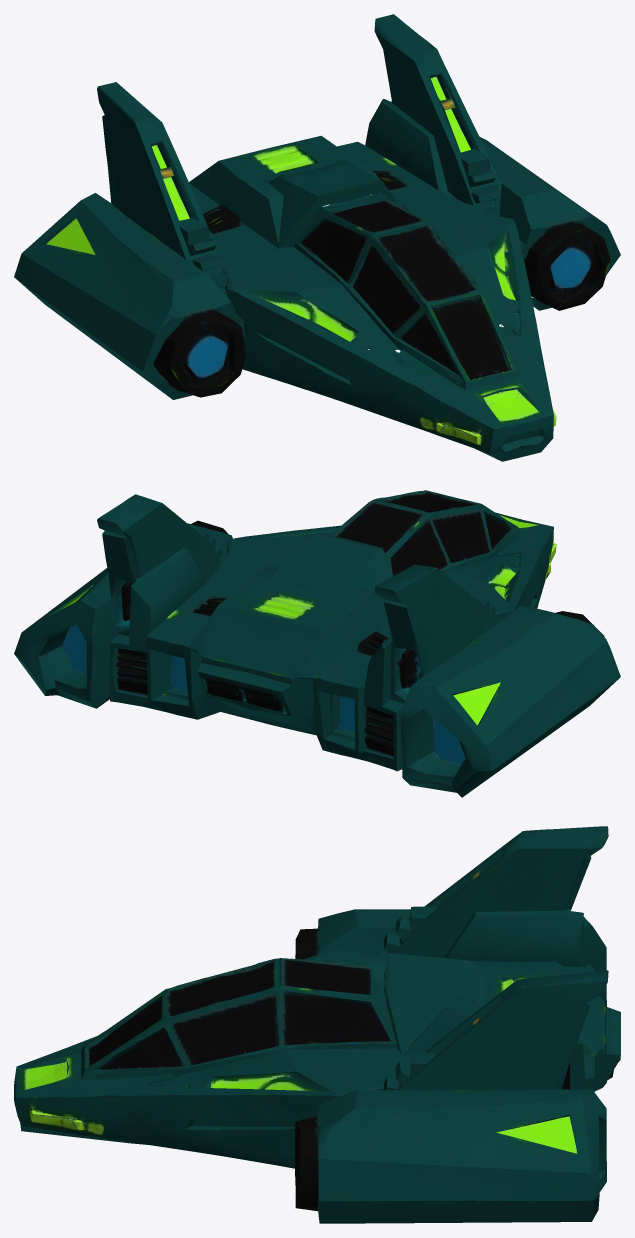
3 renders of one model, top to bottom at view 1: azimuth 30°, elevation 25°; view 2: azimuth 150°, elevation 25°; view 3: azimuth 270°, elevation 25°, orthographic. The views are drawn at different scales.
Visible parts, largest first — view 1: world; view 2: world; view 3: world.
Part boxes in pixels (box(x1,y1,x2,y2)): world: box(14, 14, 620, 461); world: box(14, 490, 620, 797); world: box(14, 826, 620, 1223).
Size of the model in its own units: 0.9719 by 0.4135 by 1.
1 material, 1 textured.
